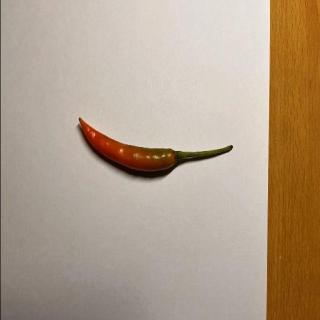Cabai Merah: (79, 117, 235, 173)
